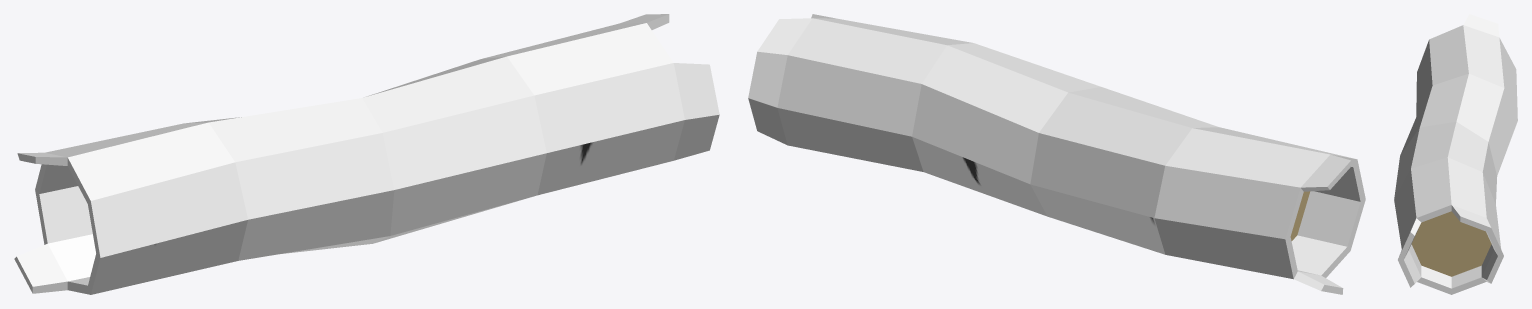
File: Birch_Log_Snow_06_LOD.fbx
The picture shows the model from 3 angles, left to right: view 1: azimuth 30°, elevation 25°; view 2: azimuth 150°, elevation 25°; view 3: azimuth 270°, elevation 25°; orthographic projection. The views are drawn at different scales.
Visible parts, largest first — view 1: Birch_Log_Snow_06_LOD0; view 2: Birch_Log_Snow_06_LOD0; view 3: Birch_Log_Snow_06_LOD0.
Boxes of the visible parts, box(x1,y1,x2,y2) form: Birch_Log_Snow_06_LOD0: box(14, 14, 719, 294); Birch_Log_Snow_06_LOD0: box(748, 14, 1365, 294); Birch_Log_Snow_06_LOD0: box(1394, 14, 1517, 294).
Size of what is drawn, in the model's own units: 151 by 34.29 by 39.54.
